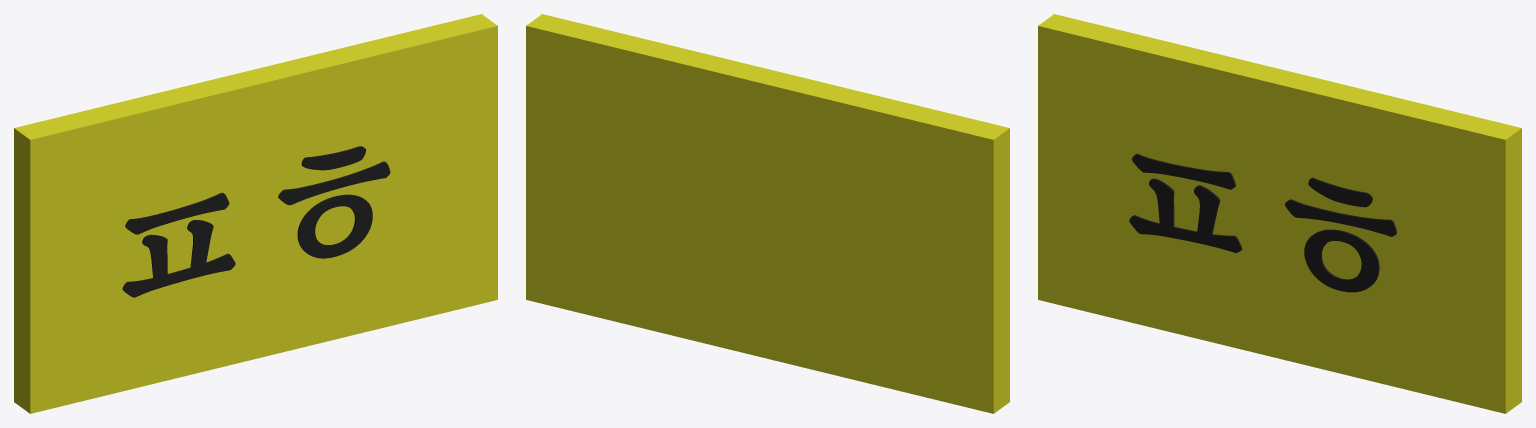
3 renders of one model, left to right at view 1: azimuth 30°, elevation 25°; view 2: azimuth 150°, elevation 25°; view 3: azimuth 330°, elevation 25°, orthographic.
Parts seen in each view (by area): view 1: Cube.008; view 2: Cube.008; view 3: Cube.008.
Boxes of the visible parts, left/top/right/bottom form: Cube.008: left=14, top=14, right=497, bottom=413; Cube.008: left=526, top=14, right=1009, bottom=413; Cube.008: left=1038, top=14, right=1521, bottom=413.
Size of the model in its own units: 10 by 5.6 by 0.64.
